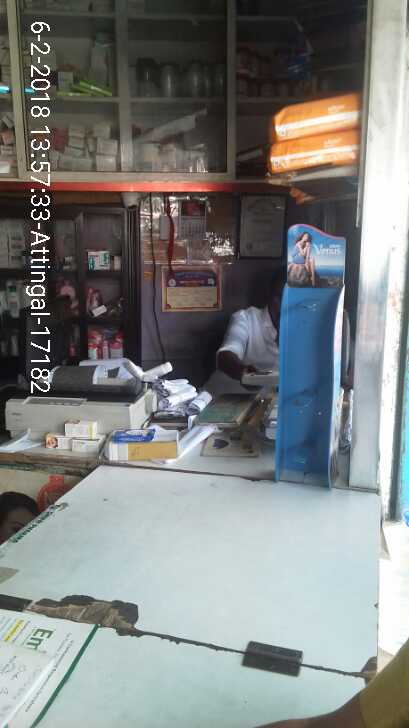reject: (61, 191, 243, 317)
